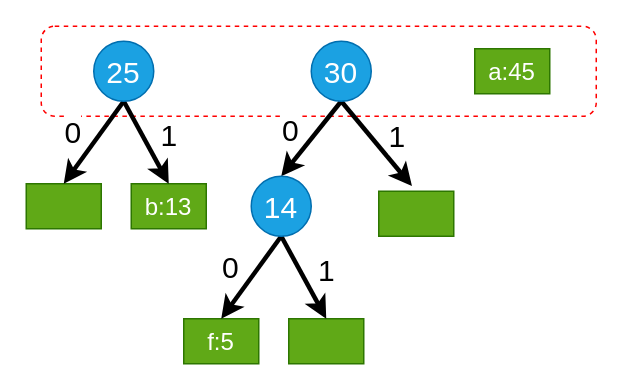
The diagram is 623 pixels wide and 390 high, and some of its shapes have lost their labels. Here are the shapes that lost their labels. From the top down, the centre of each, then its label:
[63,205]: c:12
[415,213]: d:16
[325,340]: e:9
